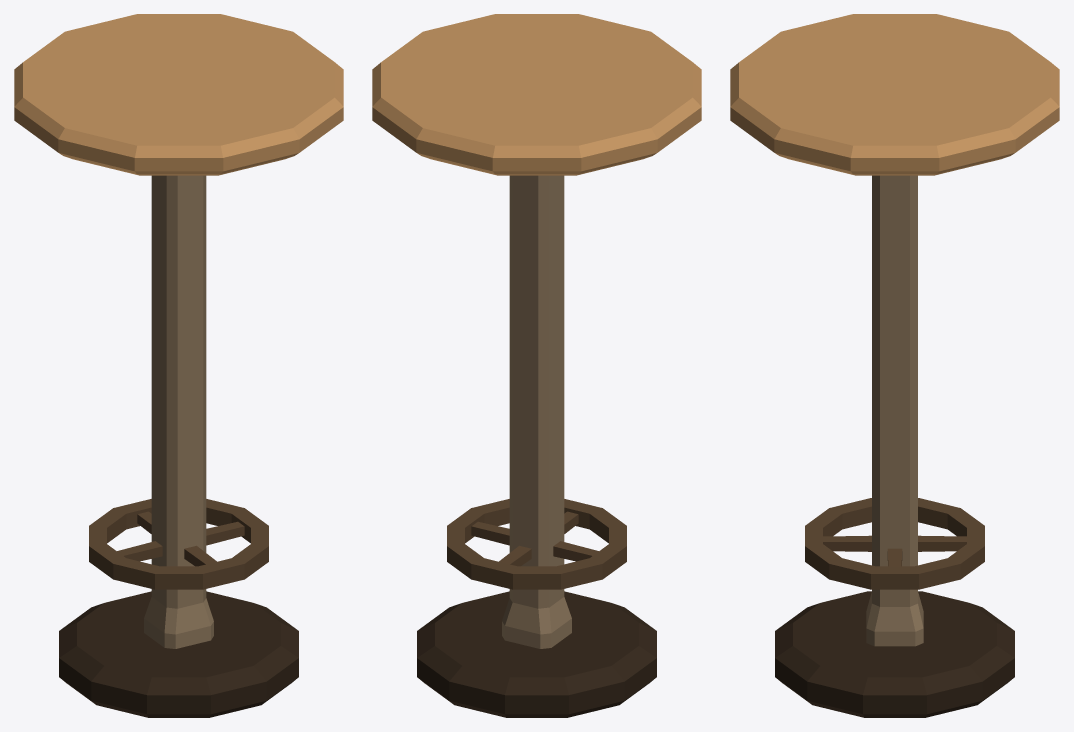
File: poseur-table-1736f4.glb
3 views of the same model, side by side, from view 1: azimuth 30°, elevation 25°; view 2: azimuth 150°, elevation 25°; view 3: azimuth 270°, elevation 25° (orthographic).
Parts seen in each view (by area): view 1: table; view 2: table; view 3: table.
Boxes of the visible parts, x1,y1,x2,y2 form: table: (14,14,343,717); table: (372,14,701,717); table: (730,14,1059,717).
Bounding box in the file's own units: 0.5313 × 1.05 × 0.5313.
